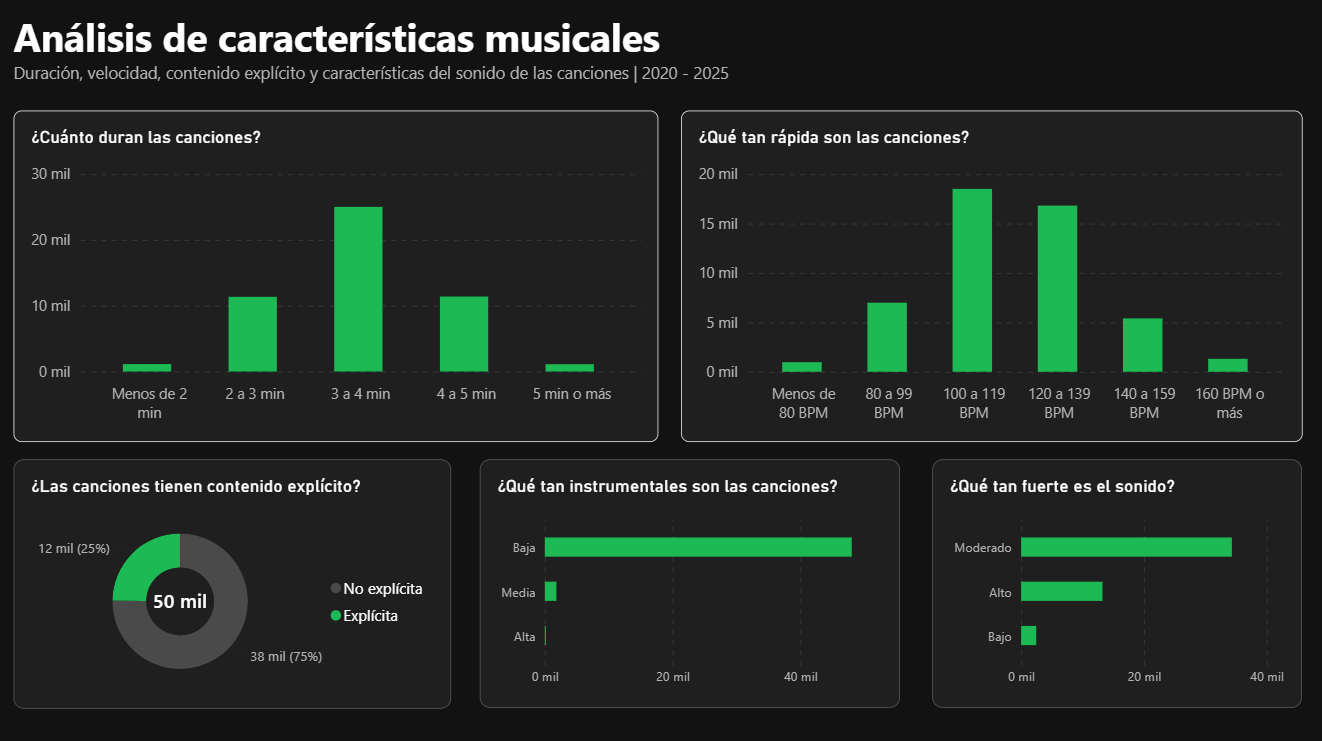

Layout of this report page (visuals, bound fields, positions):
{"tool":"powerbi","page":{"name":"Análisis musical","canvas":[1280,720],"ordinal":1},"visuals":[{"type":"textbox","box":[16.9,12.1,662.3,60.3],"z":0},{"type":"textbox","box":[16.9,60.3,702.1,36.2],"z":1000},{"type":"clusteredColumnChart","title":"¿Cuánto duran las canciones?","fields":{"Category":["spotify_streaming_clean.Rango de duración"],"Y":["spotify_streaming_clean.Total Tracks"]},"box":[16.9,108.6,622.5,319.7],"z":2000},{"type":"clusteredColumnChart","title":"¿Qué tan rápida son las canciones?","fields":{"Category":["spotify_streaming_clean.Rango de velocidad"],"Y":["spotify_streaming_clean.Total Tracks"]},"box":[661.1,108.6,600,320],"z":3000},{"type":"donutChart","title":"¿Las canciones tienen contenido explícito?","fields":{"Category":["spotify_streaming_clean.Tipo de contenido"],"Y":["spotify_streaming_clean.Total Tracks"]},"box":[16.7,445.2,422,240.6],"z":4000},{"type":"clusteredBarChart","title":"¿Qué tan instrumentales son las canciones?","fields":{"Category":["spotify_streaming_clean.Nivel instrumental"],"Y":["spotify_streaming_clean.Total Tracks"]},"box":[466.9,445.2,405.4,240.1],"z":5000},{"type":"clusteredBarChart","title":"¿Qué tan fuerte es el sonido?","fields":{"Category":["spotify_streaming_clean.Nivel sonoro"],"Y":["spotify_streaming_clean.Total Tracks"]},"box":[903.6,445.2,357.1,240.1],"z":6000}]}

Visuals, with their boxes in screenshot pixels (x1, y1, x2, y2), scaled from the page's 1280x720 canvas onto the 1322x741 screenshot:
textbox: rect(17, 12, 701, 75)
textbox: rect(17, 62, 743, 99)
"¿Cuánto duran las canciones?" clusteredColumnChart: rect(17, 112, 660, 441)
"¿Qué tan rápida son las canciones?" clusteredColumnChart: rect(683, 112, 1302, 441)
"¿Las canciones tienen contenido explícito?" donutChart: rect(17, 458, 453, 706)
"¿Qué tan instrumentales son las canciones?" clusteredBarChart: rect(482, 458, 901, 705)
"¿Qué tan fuerte es el sonido?" clusteredBarChart: rect(933, 458, 1302, 705)
